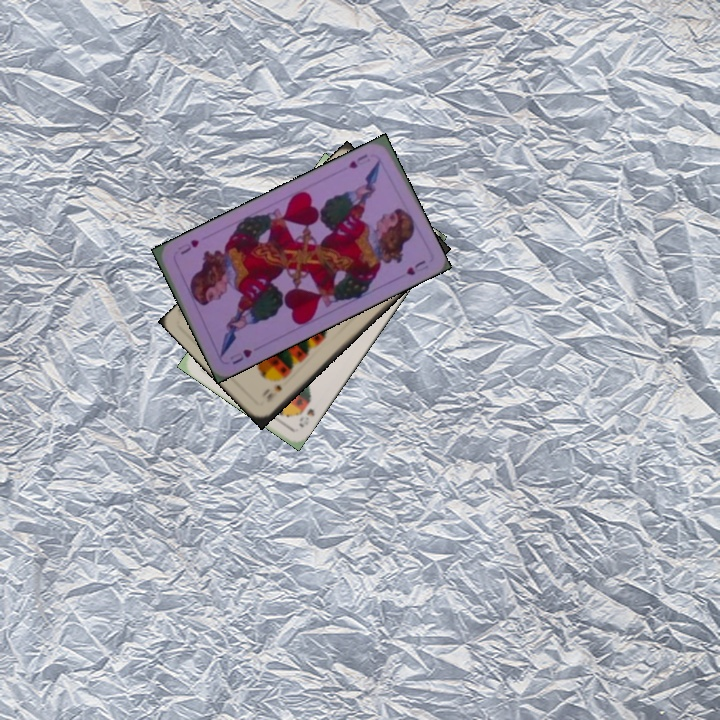HU: (225, 344, 255, 367), (345, 150, 373, 171)
S10: (262, 381, 284, 405)
SO: (295, 404, 317, 430)
